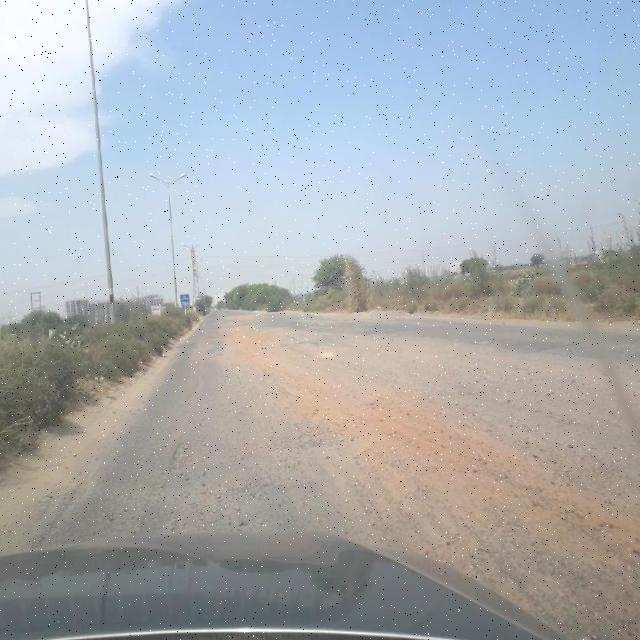D40: (222, 322, 635, 628), (148, 430, 202, 508)
